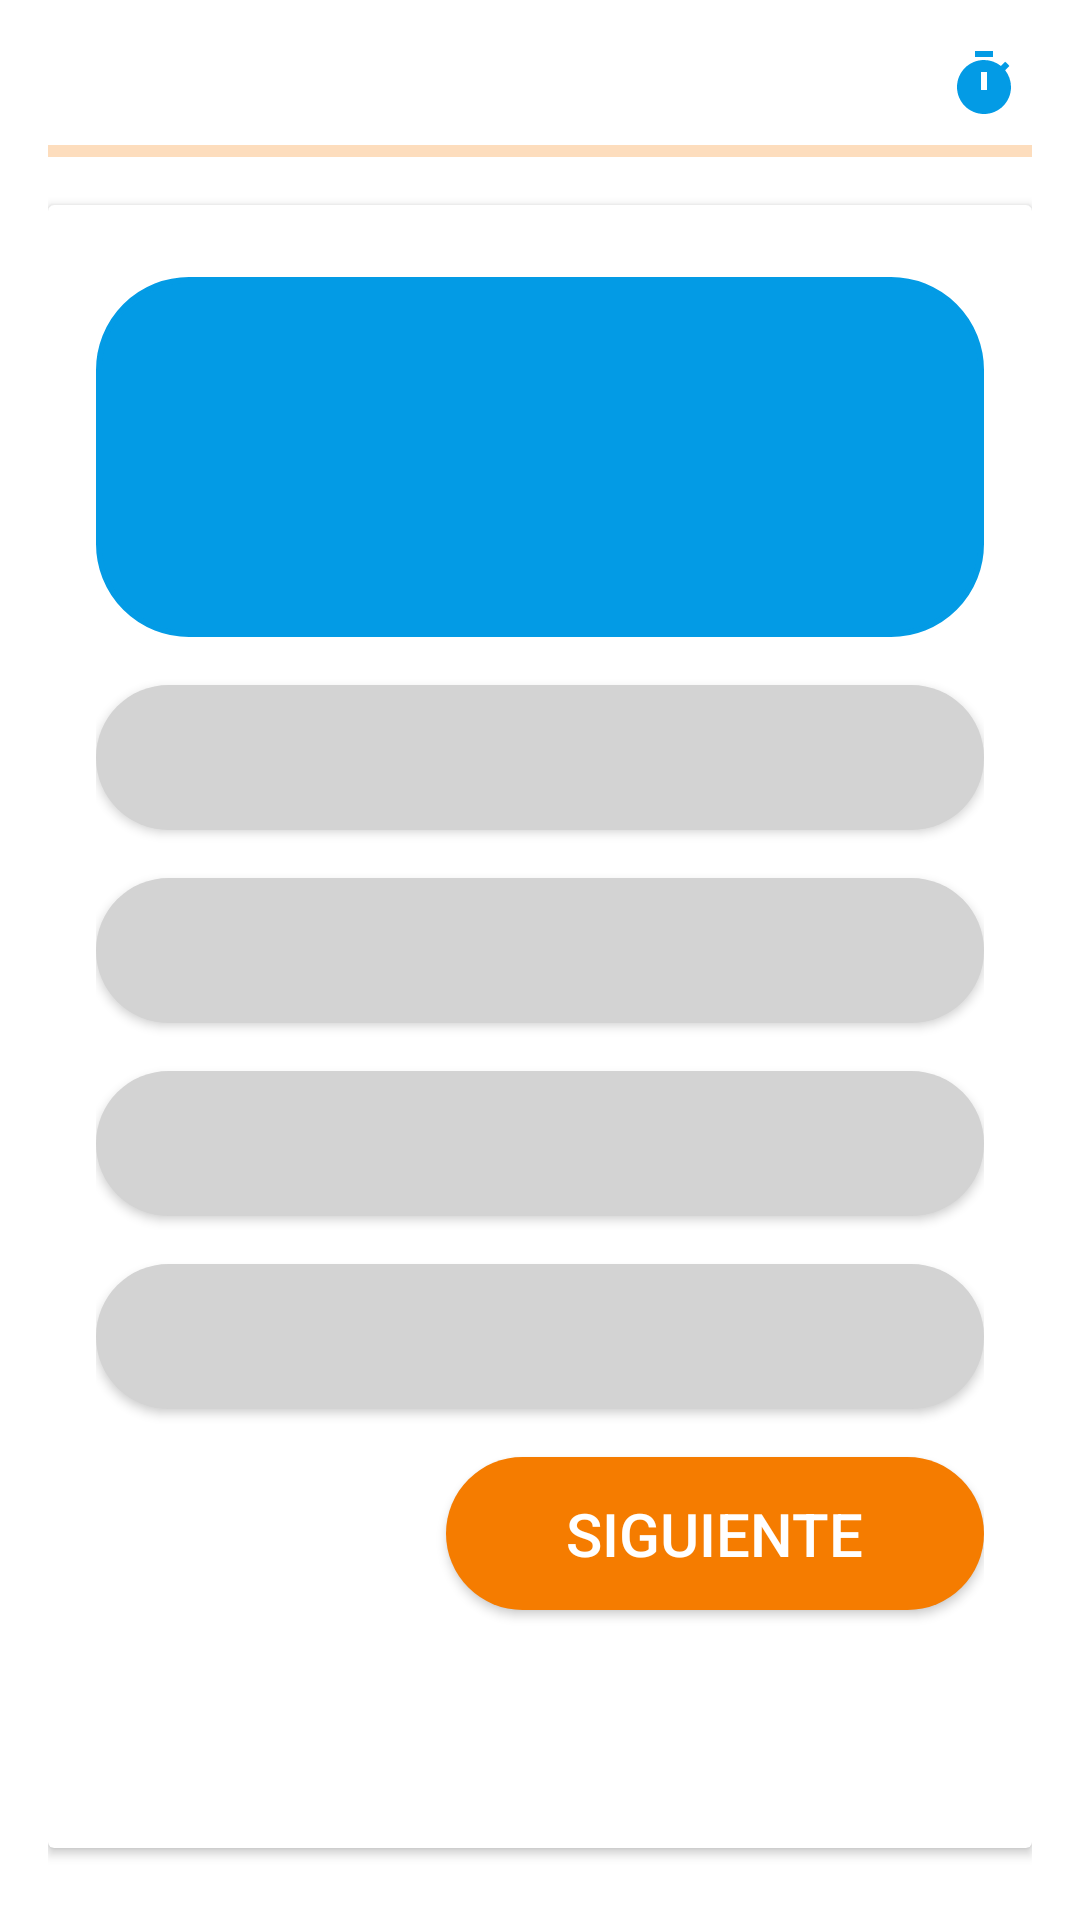

Where icons sit on this 1080 x 1920 app screen, as [x1, y1, x2, y2]:
timer: [957, 51, 1011, 114]
